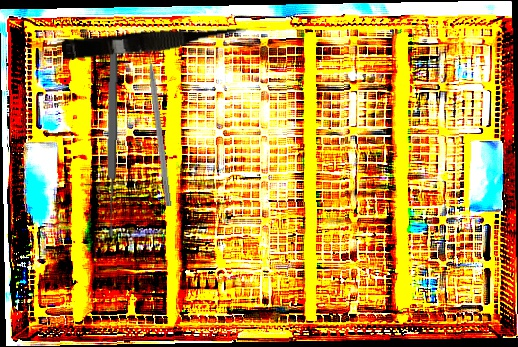Chopper: (145, 40, 180, 207)
Micro Scissor: (61, 20, 250, 65)
Surgical Spoon: (104, 40, 120, 239)
